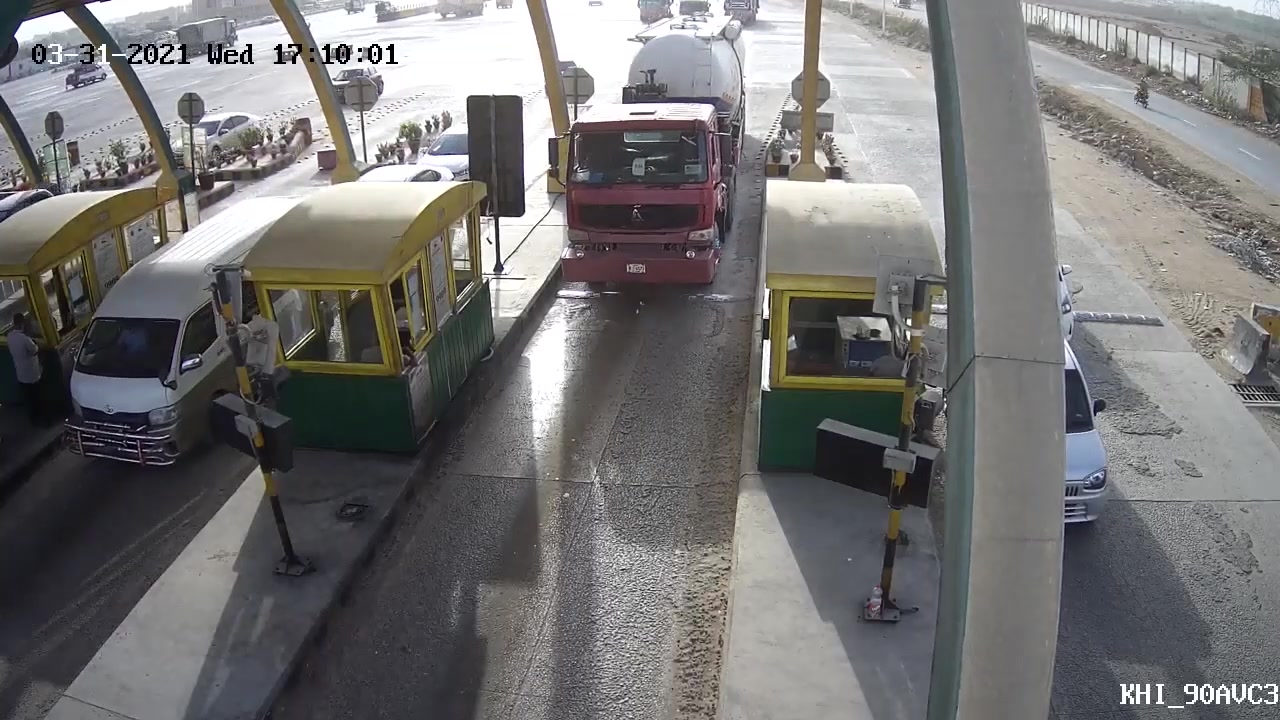F6: (553, 7, 759, 298)
